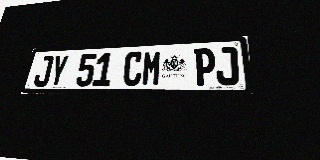1: (92, 53, 114, 87)
5: (75, 54, 97, 87)
C: (122, 51, 143, 86)
J: (215, 47, 239, 86), (32, 56, 54, 87)
M: (141, 50, 162, 86)
P: (194, 48, 216, 86)
Y: (47, 55, 69, 87)
